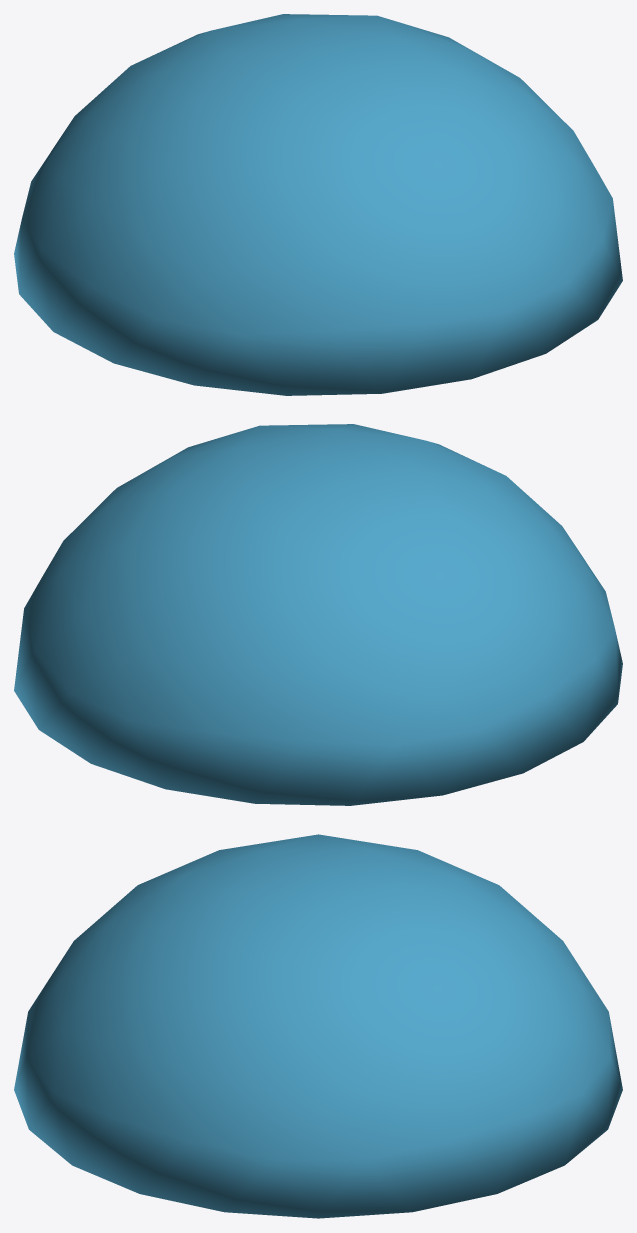
Rendered from SkyDome.fbx.
3 renders of one model, top to bottom at view 1: azimuth 30°, elevation 25°; view 2: azimuth 150°, elevation 25°; view 3: azimuth 270°, elevation 25°, orthographic.
Parts seen in each view (by area): view 1: Icosphere; view 2: Icosphere; view 3: Icosphere.
Boxes of the visible parts, x1,y1,x2,y2 form: Icosphere: (14,14,622,395); Icosphere: (14,424,622,805); Icosphere: (14,834,622,1218).
Bounding box in the file's own units: 6544 × 2574 × 6544.
